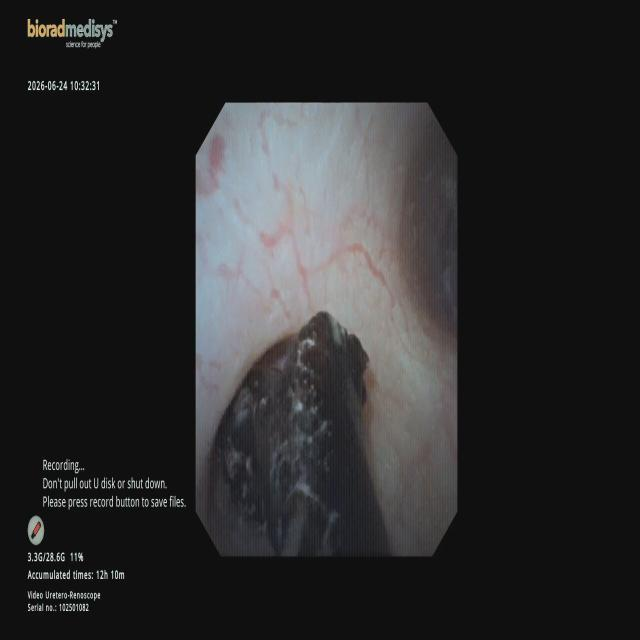stone-new: (211, 312, 390, 555)
